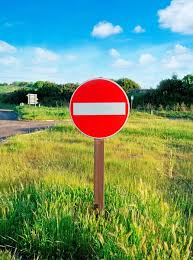No entry: (70, 80, 129, 139)
